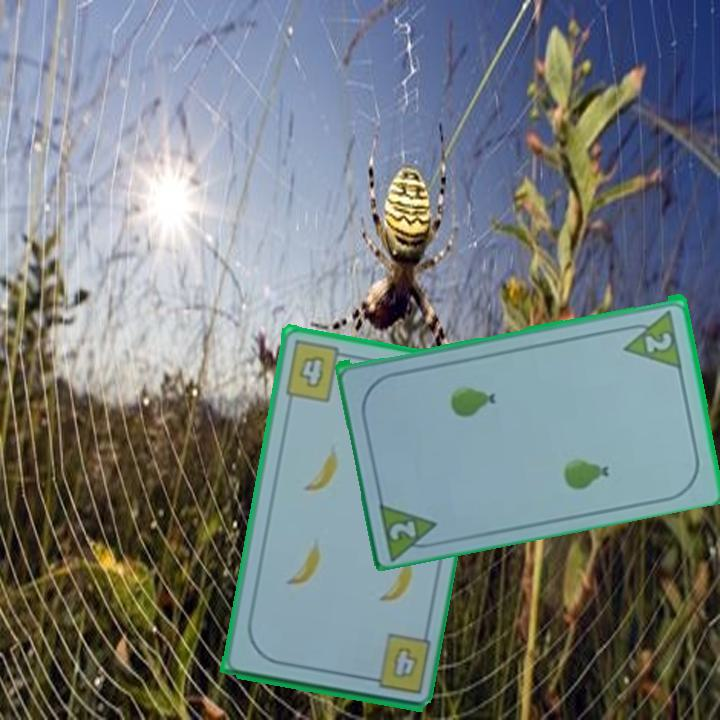2p: (375, 495, 445, 560), (642, 328, 675, 355)
4b: (360, 630, 433, 697), (281, 337, 352, 405)
